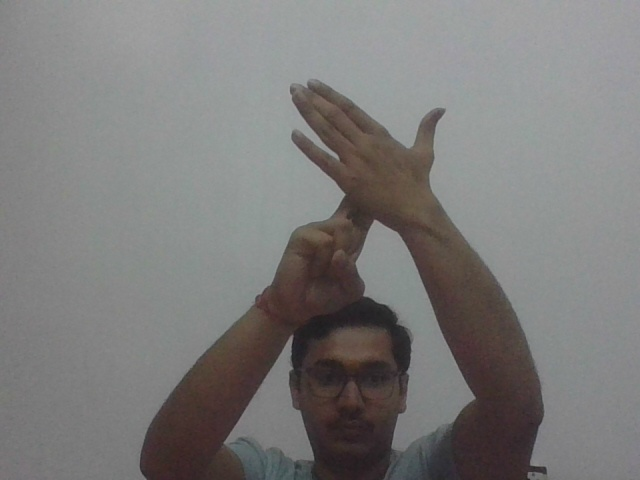N: (284, 74, 449, 275)
